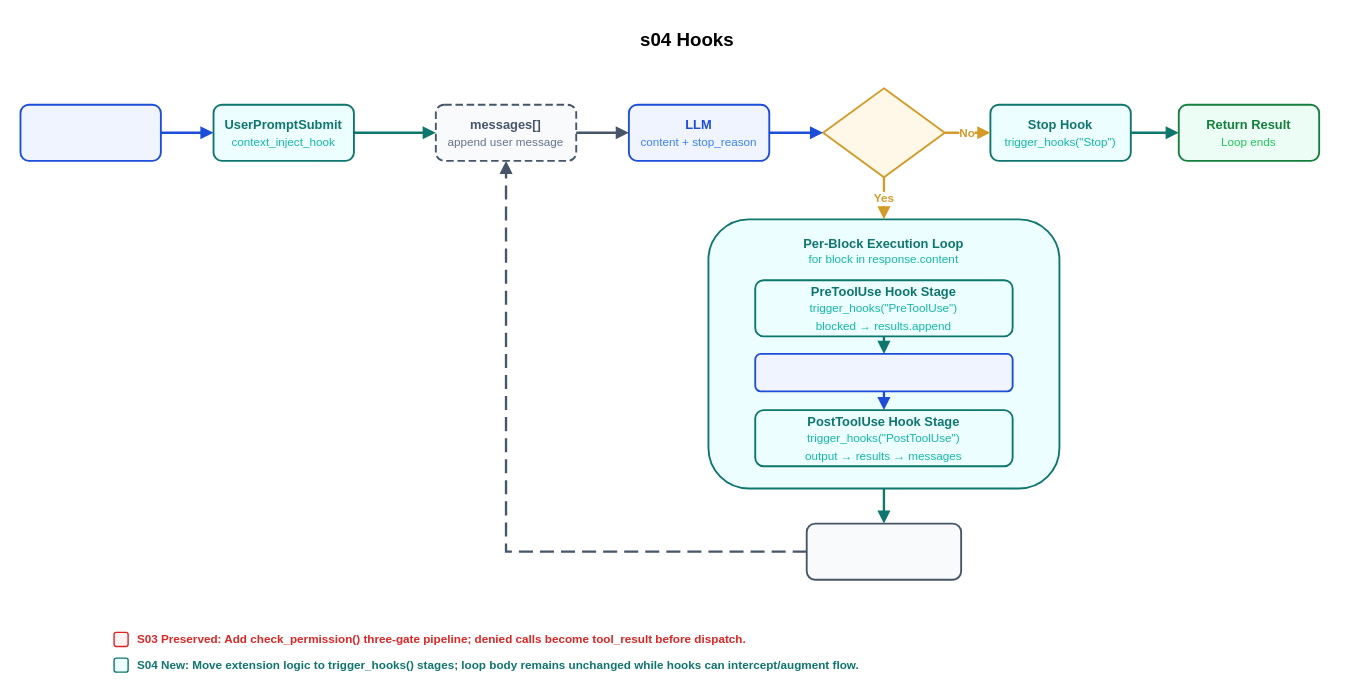
Image size: 1349x695. Some labels were removed from this diagram. The box of each missing label's shape, as (x1, y1, x2, y2) in pixels:
stop_reason == "tool_use"?: (822, 87, 945, 178)
TOOL_HANDLERS handler(**input): (754, 352, 1013, 392)
tool_result append to messages[]: (805, 522, 962, 580)
User Query Read README.md and explain it: (19, 103, 161, 161)
